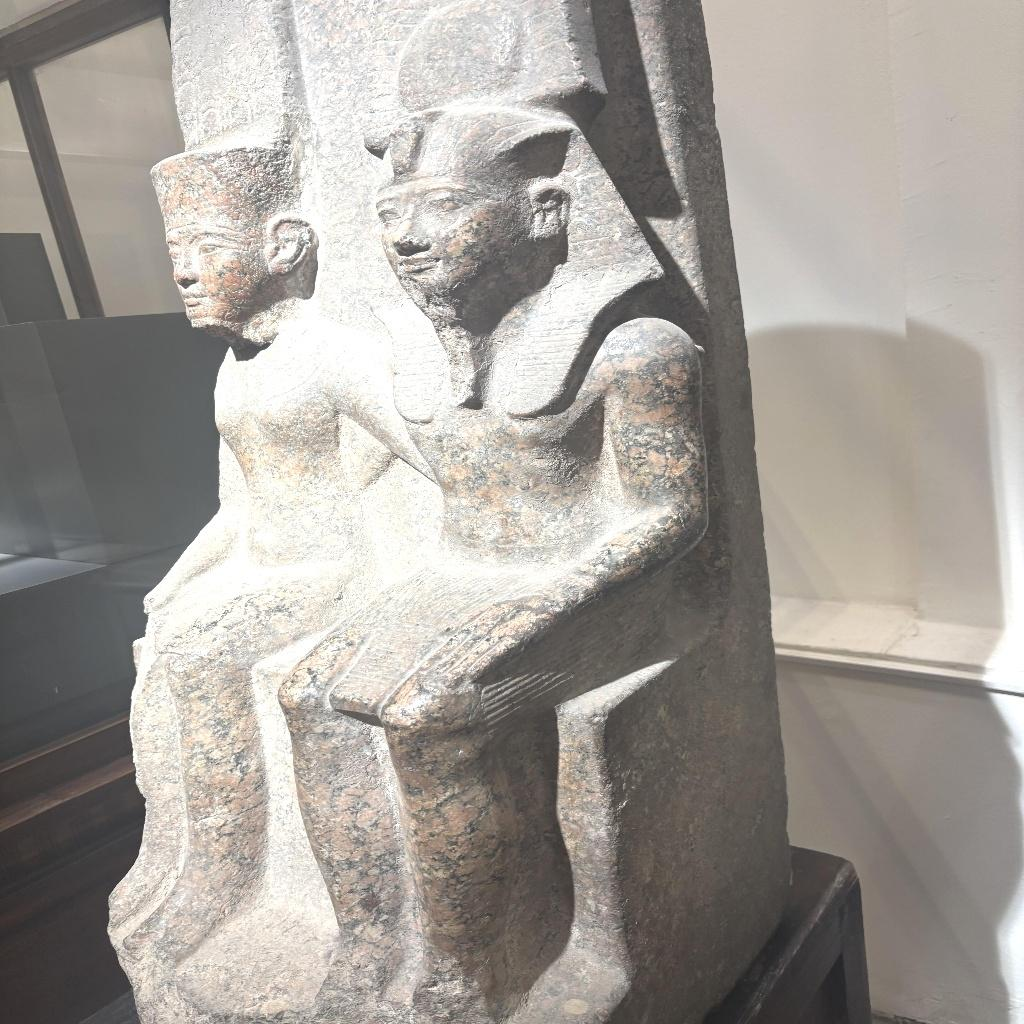Statue of Amun and King: (105, 68, 791, 1020)
